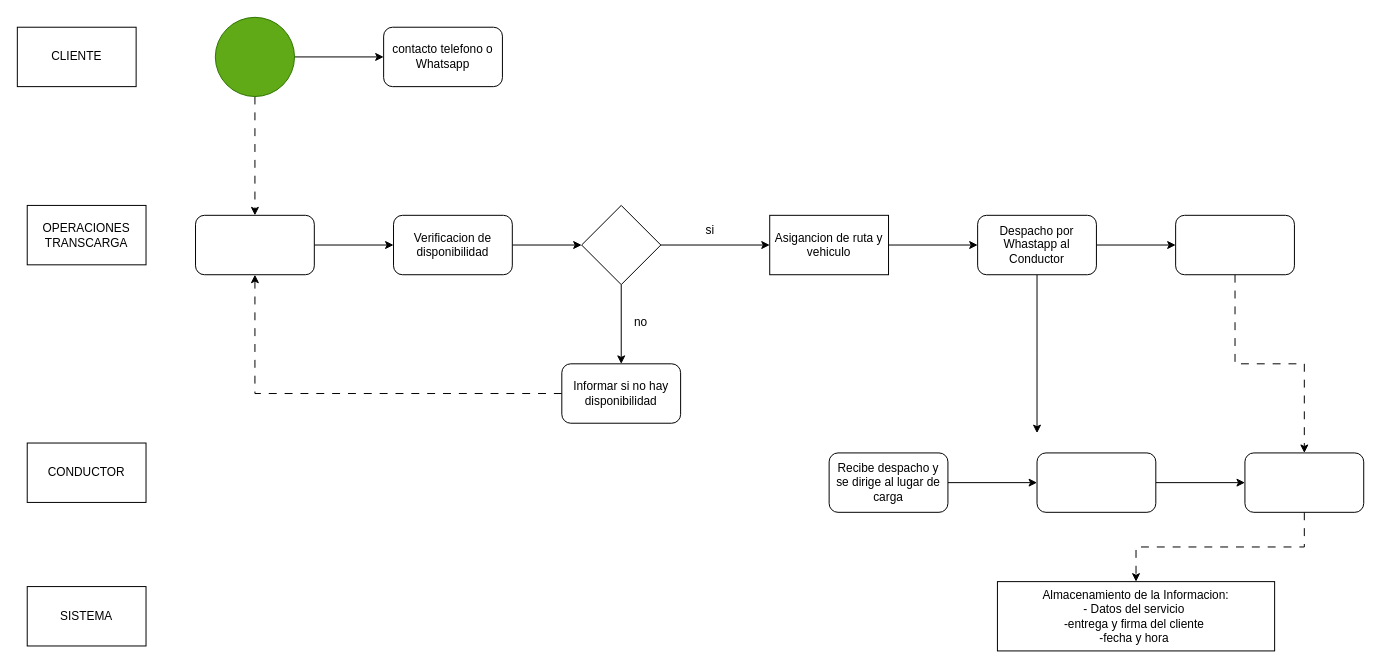
Some shapes in this 1381 by 668 pixel diagram are drawn without their labels. Here are the shapes that lost their labels. From the top down, the centre of each, then its label:
the point at 254,56: inicio
the point at 254,244: Recepcion de solicitud
the point at 1234,244: Registro de base de datos
the point at 1096,482: Entregar carga al cliente
the point at 1304,482: Obtiene firma del cleinte
